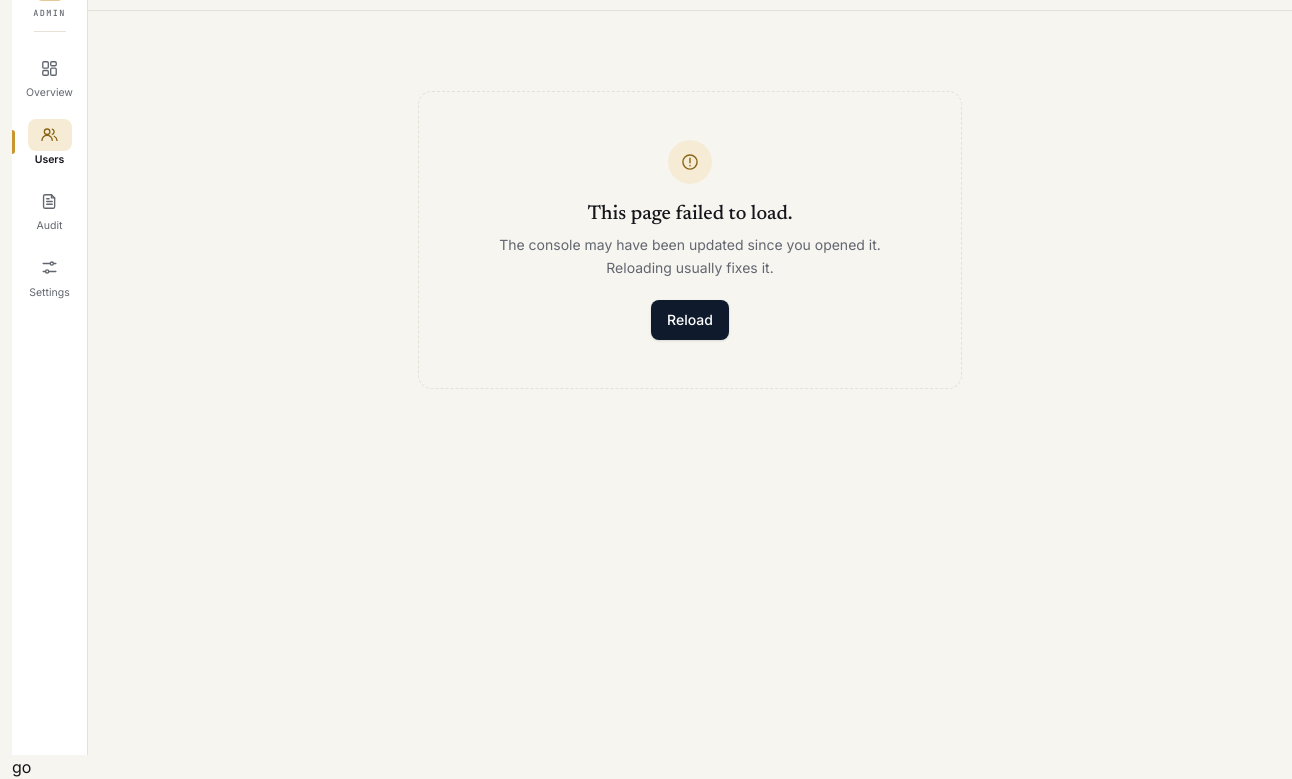
AdminShell › keeps the shell up when a page throws, and recovers on navigation
The width and height of the screenshot is (1292, 779).
(page scrolled)
Expected: the heading "This page failed to load." is shown, [587,200,793,228]
Click the link "go" at (22, 767), box [12,757,31,777]
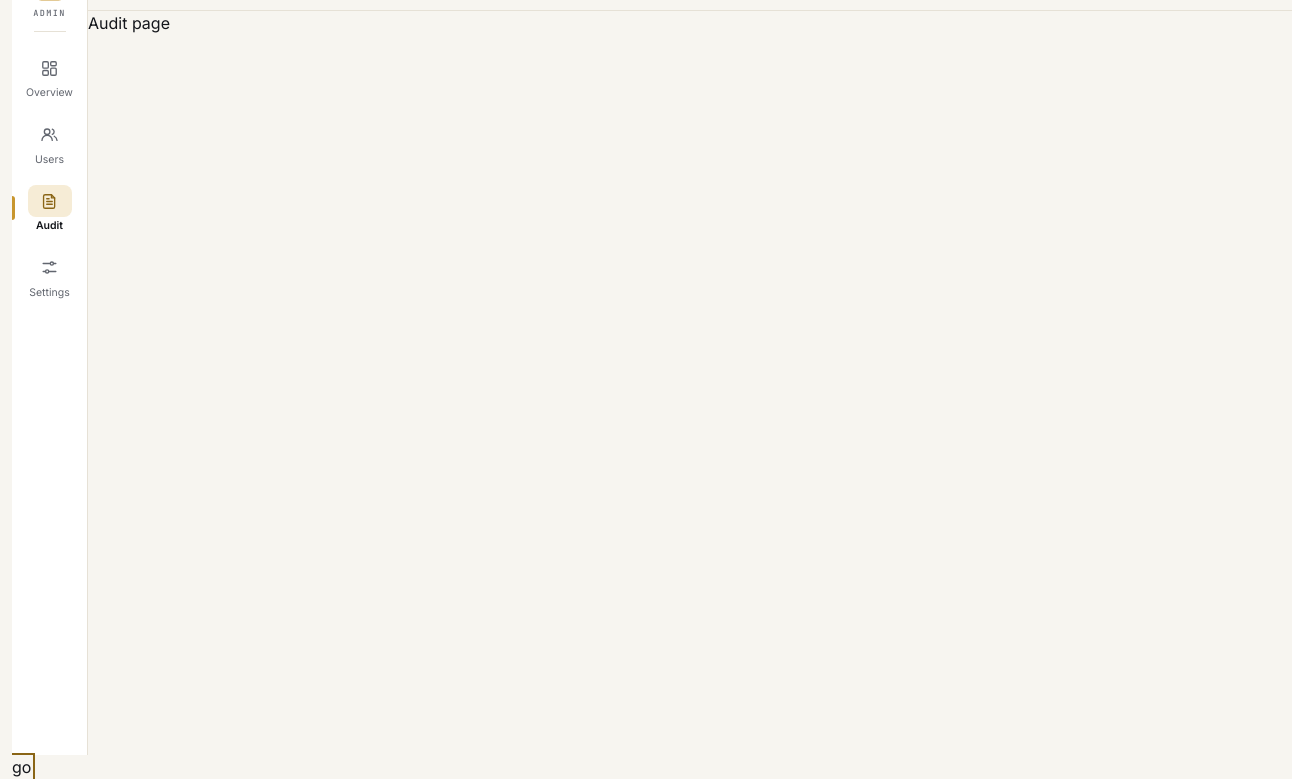
Expected: the heading "Audit page" is shown, [88,13,170,33]
Expected: the heading "This page failed to load." is gone
